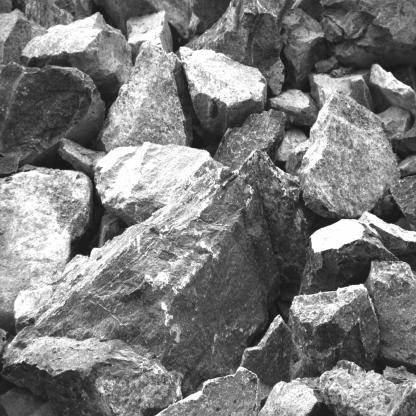stone: (0, 167, 281, 416), (0, 167, 93, 331), (297, 89, 401, 219), (96, 37, 195, 153), (0, 61, 106, 165), (94, 143, 212, 225), (188, 0, 287, 93), (19, 11, 133, 88), (288, 283, 380, 372), (179, 46, 267, 138), (298, 219, 400, 295), (366, 262, 416, 365), (282, 9, 325, 87), (369, 63, 416, 119), (268, 89, 319, 126)
